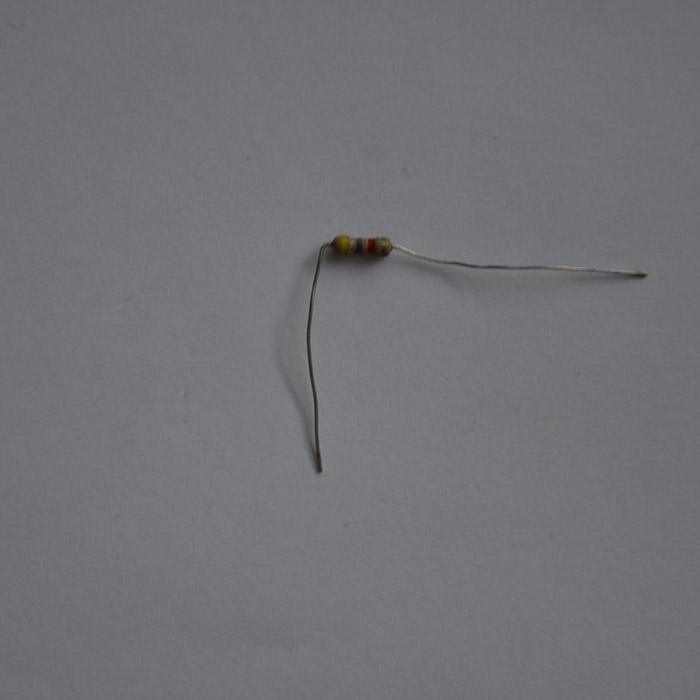resistor: (333, 234, 392, 257)
